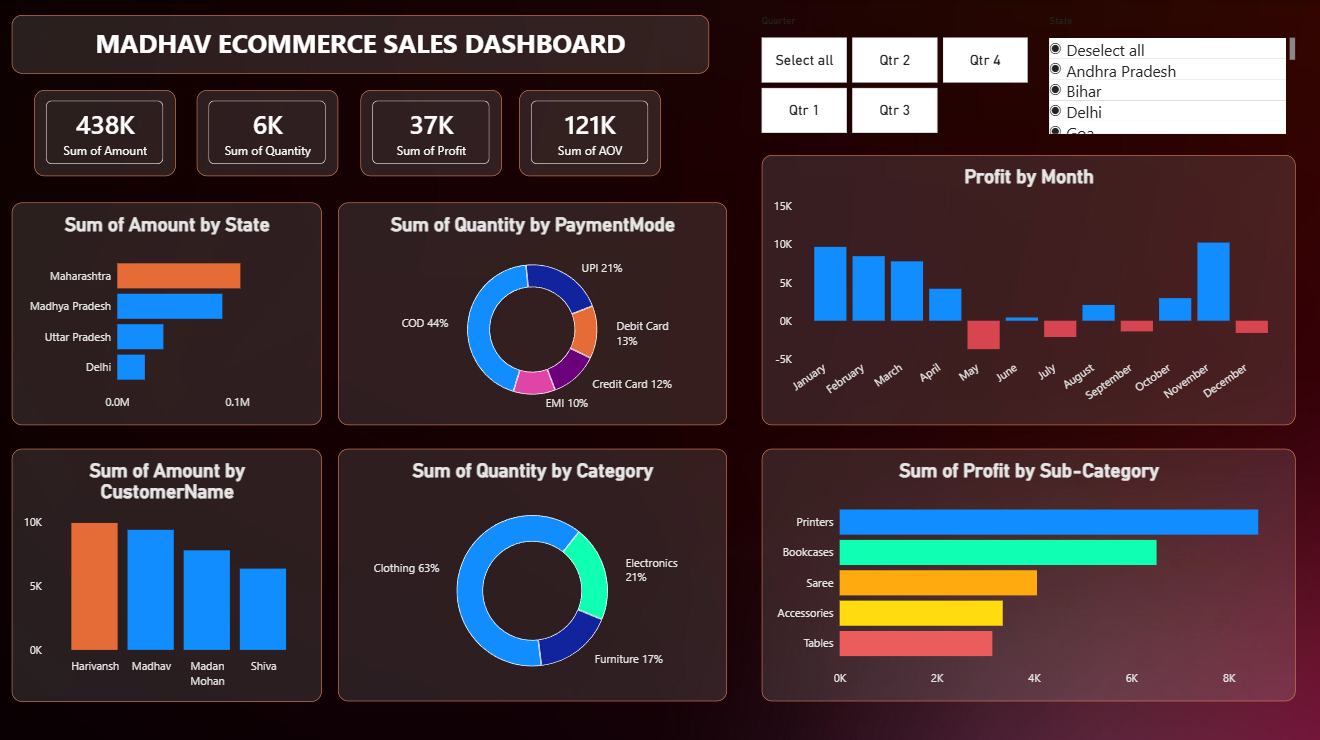

What the dashboard file says about the page in this screenshot:
{"tool":"powerbi","page":{"name":"Page 1","canvas":[1920,1080],"ordinal":0},"visuals":[{"type":"textbox","box":[19.9,21.7,1009.8,85.1],"z":0},{"type":"columnChart","title":"Profit by Month","fields":{"Category":["Orders.Order Date.Variation.Date Hierarchy.Month"],"Y":["Sum(Details.Profit)"]},"box":[1105.7,224.4,772.7,390.9],"z":1000},{"type":"barChart","fields":{"Category":["Details.Sub-Category"],"Y":["Sum(Details.Profit)"]},"box":[1105.7,649.7,772.7,365.6],"z":2000},{"type":"donutChart","fields":{"Category":["Details.Category"],"Y":["Sum(Details.Quantity)"]},"box":[492.2,649.7,562.8,365.6],"z":3000},{"type":"donutChart","fields":{"Category":["Details.PaymentMode"],"Y":["Sum(Details.Quantity)"]},"box":[492.2,293.2,562.8,322.1],"z":4000},{"type":"cardVisual","fields":{"Data":["Sum(Details.Amount)"]},"box":[52.5,130.3,204.5,124.9],"z":5000},{"type":"cardVisual","fields":{"Data":["Sum(Details.Quantity)"]},"box":[287.7,130.3,204.5,124.9],"z":6000},{"type":"cardVisual","fields":{"Data":["Sum(Details.Profit)"]},"box":[524.8,130.3,204.5,124.9],"z":7000},{"type":"cardVisual","fields":{"Data":["Sum(Details.AOV)"]},"box":[754.6,130.3,204.5,124.9],"z":8000},{"type":"barChart","fields":{"Category":["Orders.State"],"Y":["Sum(Details.Amount)"]},"box":[19.9,293.2,448.8,322.1],"z":9000},{"type":"columnChart","fields":{"Category":["Orders.CustomerName"],"Y":["Sum(Details.Amount)"]},"box":[20,650,449,366],"z":10000},{"type":"advancedSlicerVisual","fields":{"Values":["Orders.Order Date.Variation.Date Hierarchy.Quarter"]},"box":[1105.7,21.7,385.5,171.9],"z":11000},{"type":"listSlicer","fields":{"Values":["Orders.State"]},"box":[1521.9,21.7,356.5,171.9],"z":12000}]}

Visuals, with their boxes in screenshot pixels (x1, y1, x2, y2), scaled from the page's 1920x1080 canvas onto the 1320x740 screenshot:
textbox: box(14, 15, 708, 73)
"Profit by Month" columnChart: box(760, 154, 1291, 422)
barChart - Details.Sub-Category x Sum(Details.Profit): box(760, 445, 1291, 696)
donutChart - Details.Category x Sum(Details.Quantity): box(338, 445, 725, 696)
donutChart - Details.PaymentMode x Sum(Details.Quantity): box(338, 201, 725, 422)
cardVisual - Sum(Details.Amount): box(36, 89, 177, 175)
cardVisual - Sum(Details.Quantity): box(198, 89, 338, 175)
cardVisual - Sum(Details.Profit): box(361, 89, 501, 175)
cardVisual - Sum(Details.AOV): box(519, 89, 659, 175)
barChart - Orders.State x Sum(Details.Amount): box(14, 201, 322, 422)
columnChart - Orders.CustomerName x Sum(Details.Amount): box(14, 445, 322, 696)
advancedSlicerVisual - Orders.Order Date.Variation.Date Hierarchy.Quarter: box(760, 15, 1025, 133)
listSlicer - Orders.State: box(1046, 15, 1291, 133)
